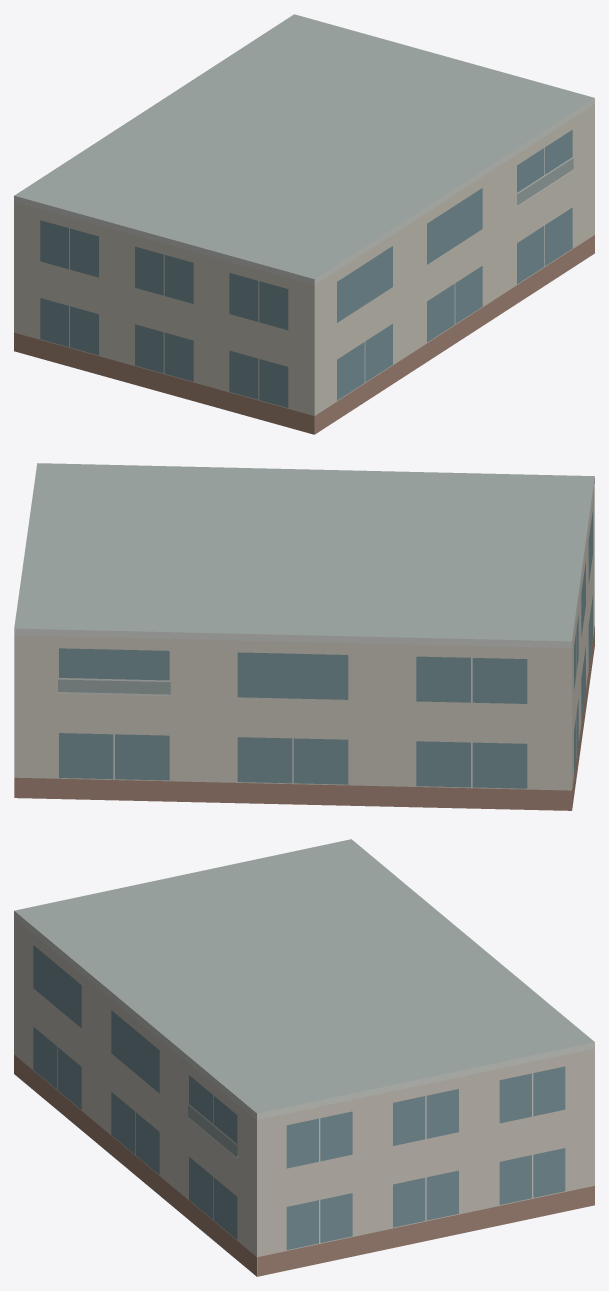
The model's file is survey-upis-32704887.glb.
3 renders of one model, top to bottom at view 1: azimuth 30°, elevation 25°; view 2: azimuth 150°, elevation 25°; view 3: azimuth 270°, elevation 25°, orthographic. The views are drawn at different scales.
Parts seen in each view (by area): view 1: survey-upis-32704887.tmp; view 2: survey-upis-32704887.tmp; view 3: survey-upis-32704887.tmp.
Part boxes in pixels (x1,y1,x2,y2): survey-upis-32704887.tmp: (14, 14, 594, 434); survey-upis-32704887.tmp: (14, 463, 594, 810); survey-upis-32704887.tmp: (14, 839, 594, 1276).
Size of the model in its own units: 22 by 6.1 by 19.67.
